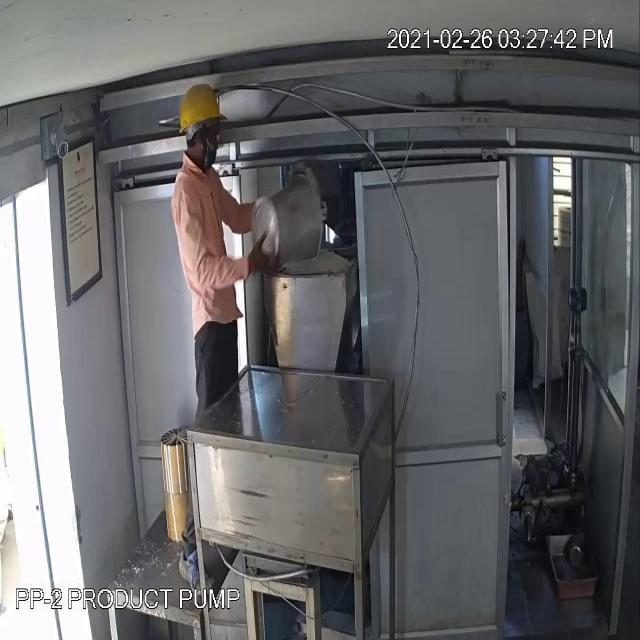hat: (176, 79, 233, 136)
